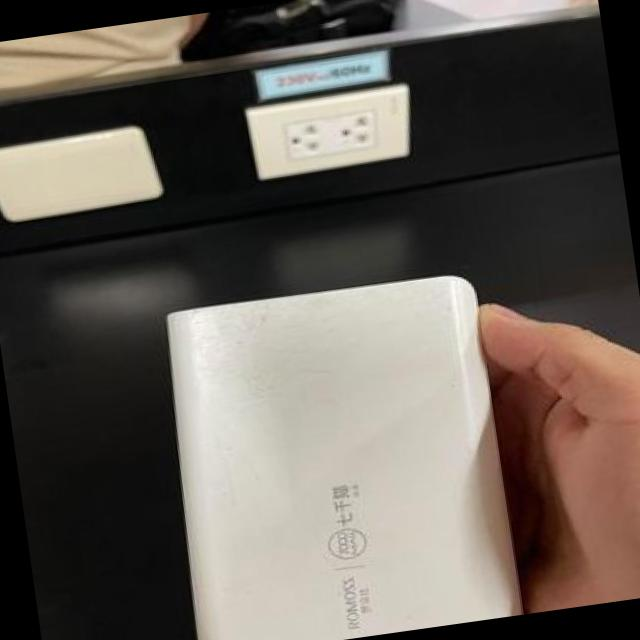power_bank: (147, 263, 536, 640)
